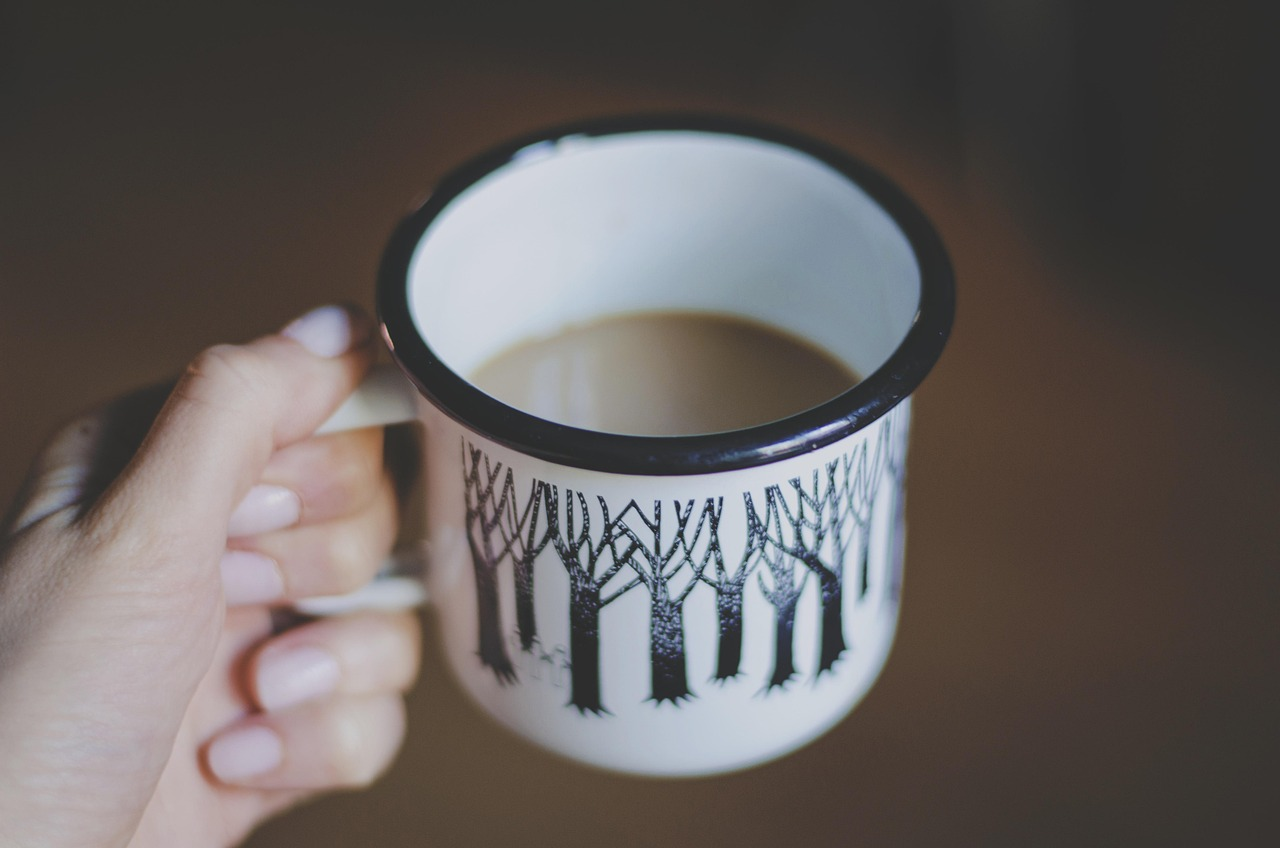mug: (222, 101, 963, 807)
